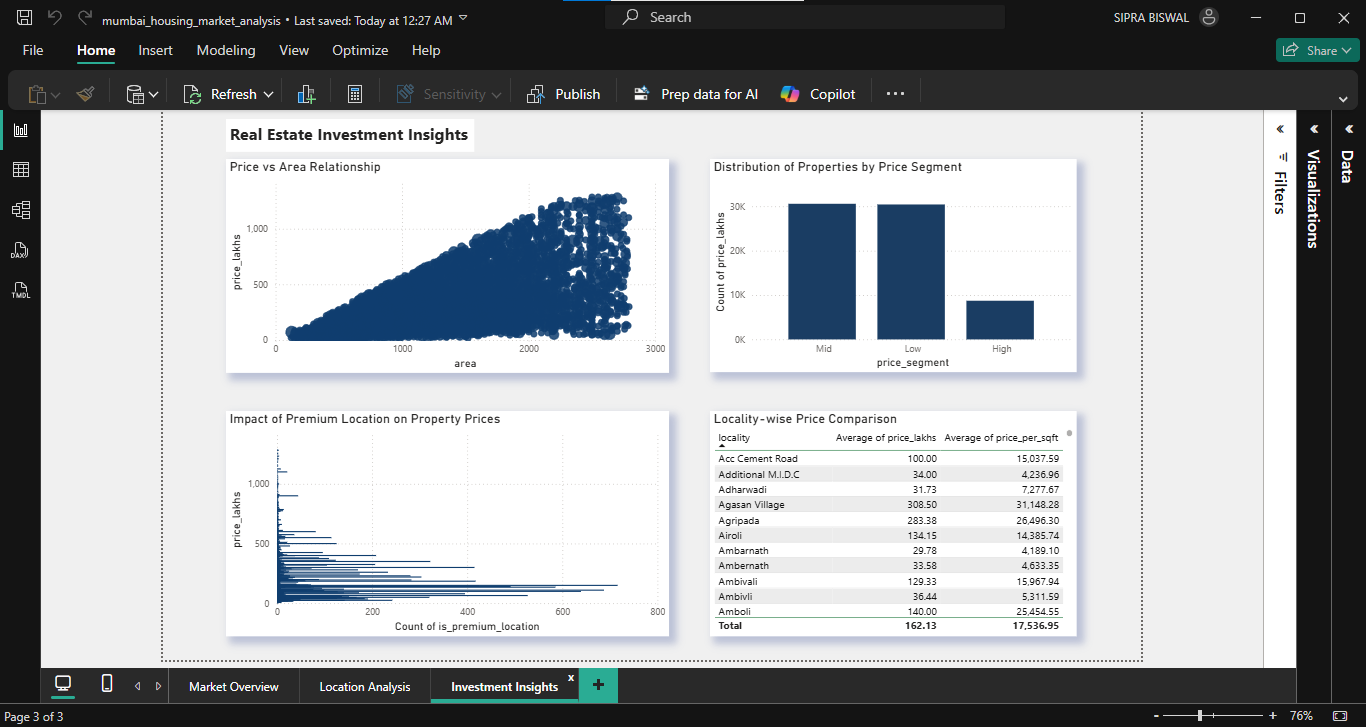

What the dashboard file says about the page in this screenshot:
{"tool":"powerbi","page":{"name":"Investment Insights","canvas":[1280,720],"ordinal":2},"visuals":[{"type":"scatterChart","title":"Price vs Area Relationship ","fields":{"X":["Mumbai_housing_market_data.area"],"Y":["Mumbai_housing_market_data.price_lakhs"],"Size":["CountNonNull(Mumbai_housing_market_data.bedroom_num)"]},"box":[82.5,64.1,579.9,280.1],"z":0},{"type":"clusteredBarChart","title":"Impact of Premium Location on Property Prices","fields":{"Y":["CountNonNull(Mumbai_housing_market_data.is_premium_location)"],"Category":["Mumbai_housing_market_data.price_lakhs"]},"box":[82.5,394,579.9,294.5],"z":1000},{"type":"clusteredColumnChart","title":"Distribution of Properties by Price Segment","fields":{"Category":["Mumbai_housing_market_data.price_segment"],"Y":["CountNonNull(Mumbai_housing_market_data.price_lakhs)"]},"box":[715.6,64.7,480.5,279.2],"z":2000},{"type":"tableEx","title":"Locality-wise Price Comparison","fields":{"Values":["Mumbai_housing_market_data.locality","Avg(Mumbai_housing_market_data.price_lakhs)","Avg(Mumbai_housing_market_data.price_per_sqft)"]},"box":[715.6,393.8,480.5,295.3],"z":3000},{"type":"textbox","box":[82.3,11.8,324.7,42.6],"z":4000}]}

Visuals, with their boxes on the page's 1280x720 design canvas (x1, y1, x2, y2). These are canvas units, not pixel positions in the 1366x727 screenshot, which may show the page scaled, cropped or inside an application window:
"Price vs Area Relationship " scatterChart: [left=82, top=64, right=662, bottom=344]
"Impact of Premium Location on Property Prices" clusteredBarChart: [left=82, top=394, right=662, bottom=688]
"Distribution of Properties by Price Segment" clusteredColumnChart: [left=716, top=65, right=1196, bottom=344]
"Locality-wise Price Comparison" tableEx: [left=716, top=394, right=1196, bottom=689]
textbox: [left=82, top=12, right=407, bottom=54]
